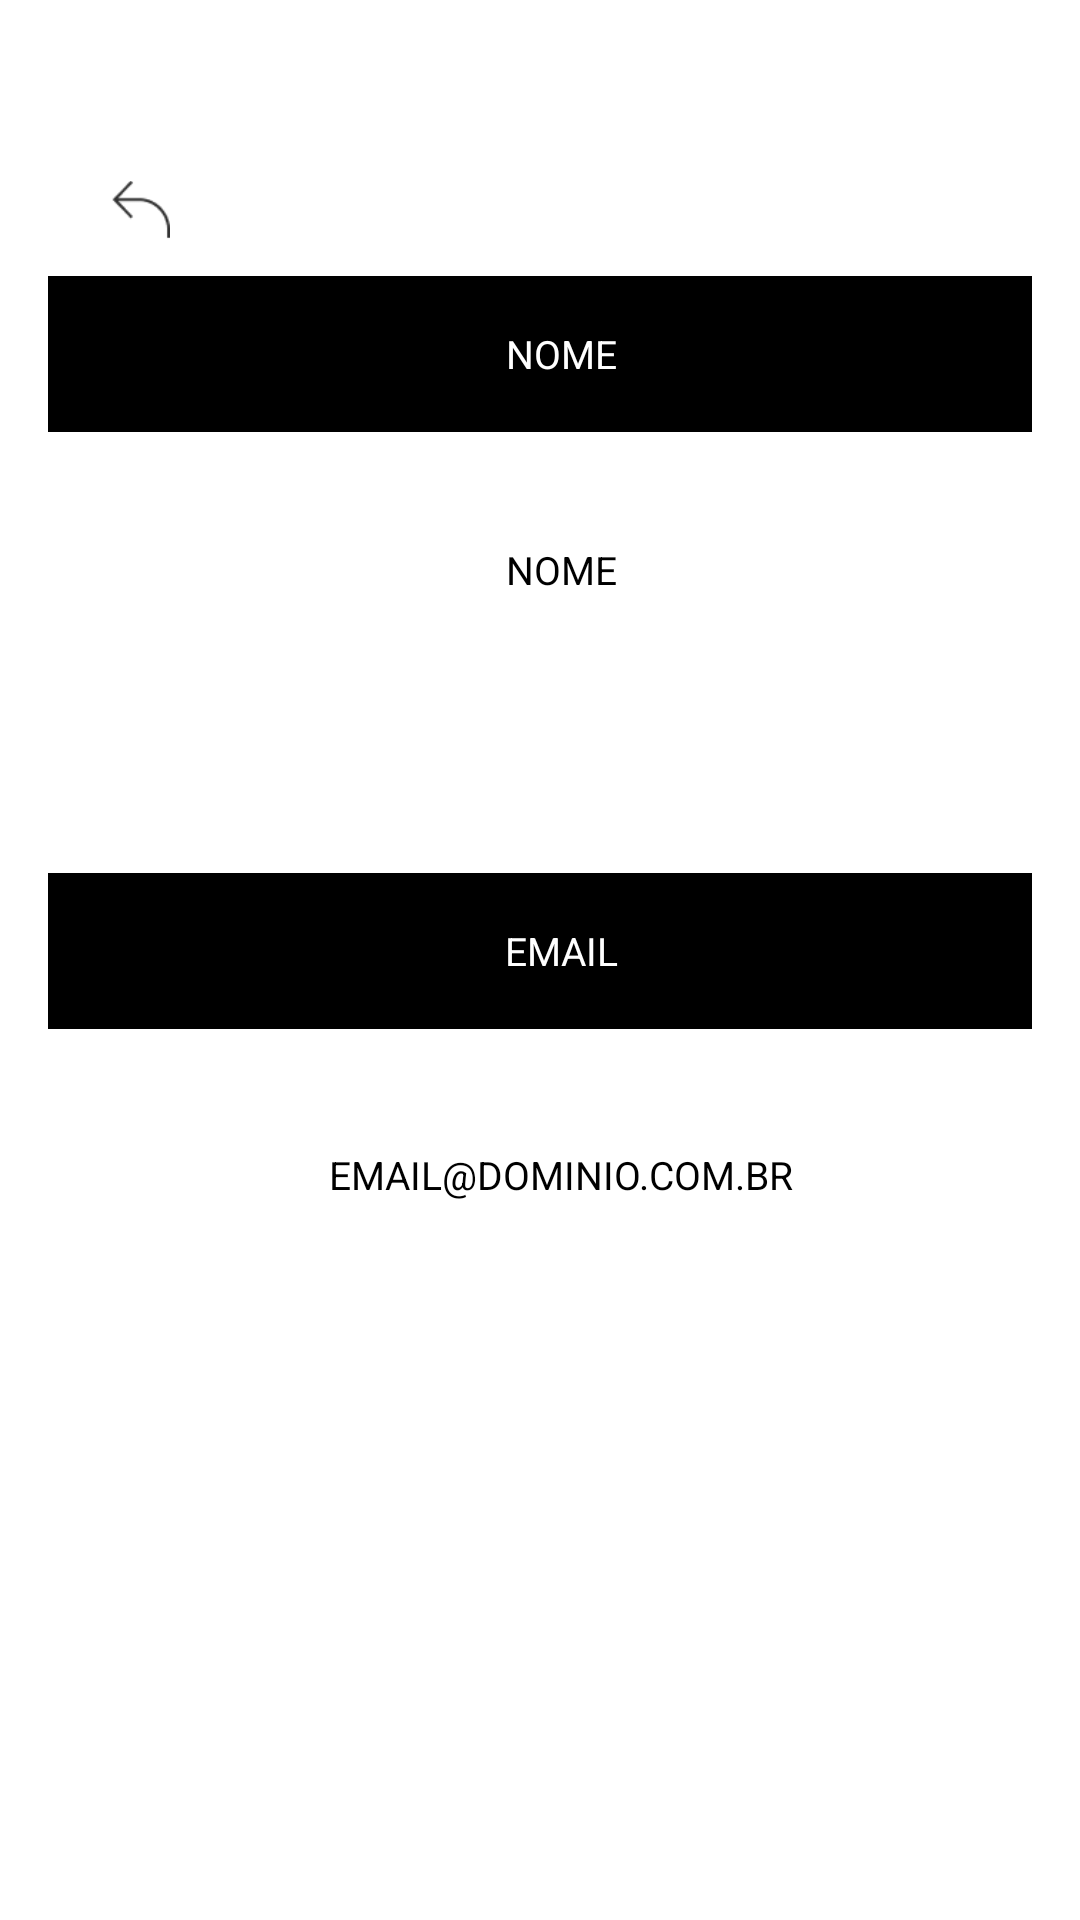

Where to tap for icons on this 1080 × 1920 app screen, as (x=x, y=y):
back: (x=141, y=209)
